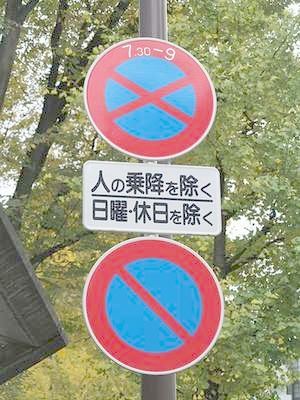Prohibition_sign: (78, 231, 228, 377), (78, 31, 218, 162)
